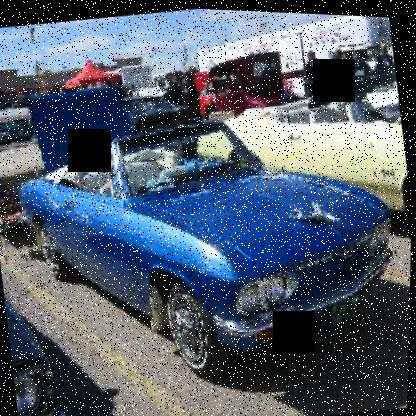not_emergency: (0, 48, 414, 405)
